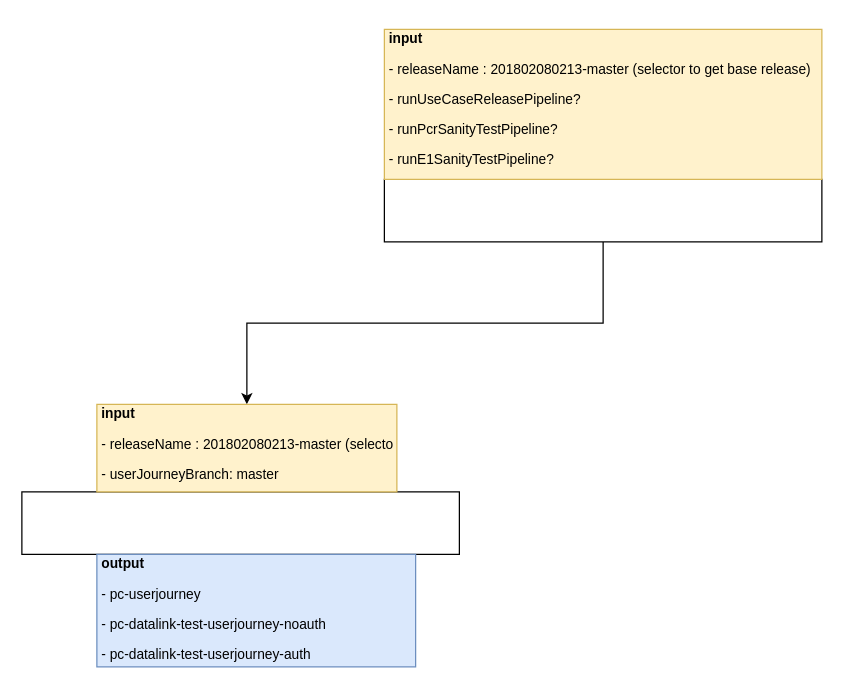
Some shapes in this 844 by 689 pixel diagram are drawn without their labels. The shapes that lost their labels are listed below. From the top down, each one's box as (x1, y1, x2, y2) in pixels, then its label:
(383, 178, 822, 242): e1-pcr-sanity-orchestration e1PowercurveOrchestrateTest.groovy
(21, 491, 459, 554): e1-usecase-build-release e1PowercurveBuildusecaseReleaseWithSolution.groovy
